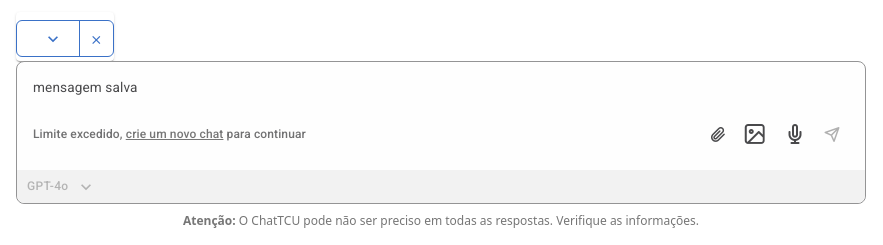
Test: InputBox Component › handleChangePrompt › deve atualizar o mentionText quando @ é digitado
The width and height of the screenshot is (883, 245).
Replace the text in the text box with test id "chat-input" with "test @Agent": (441, 80) [17, 62, 865, 98]
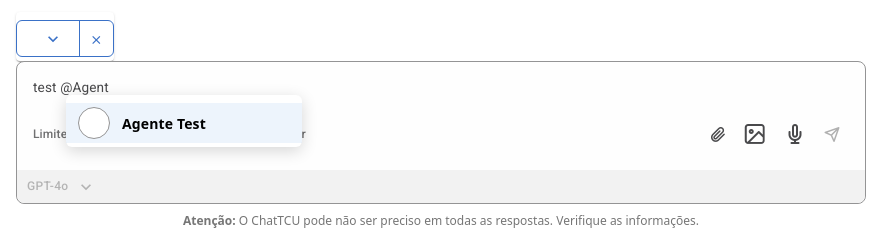
Check: the text "Agente Test" is shown, box [122, 114, 206, 132]
